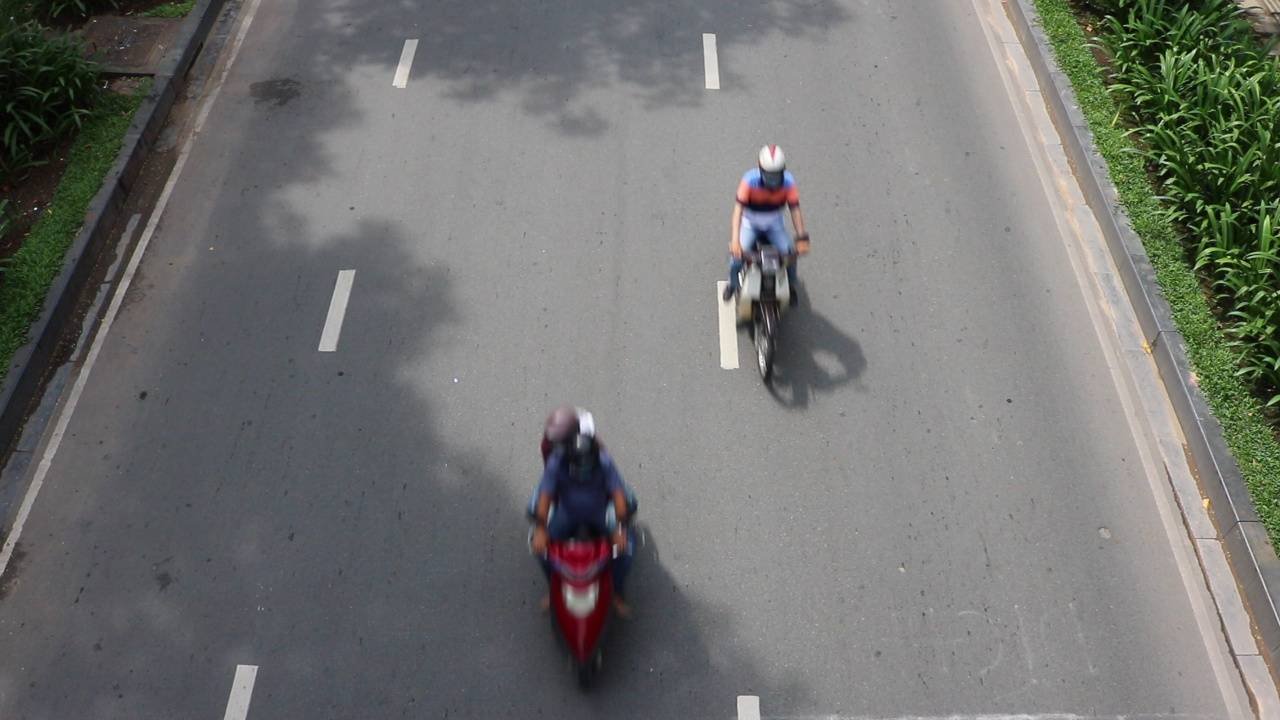motorcycle: (543, 517, 619, 689), (723, 242, 806, 382)
